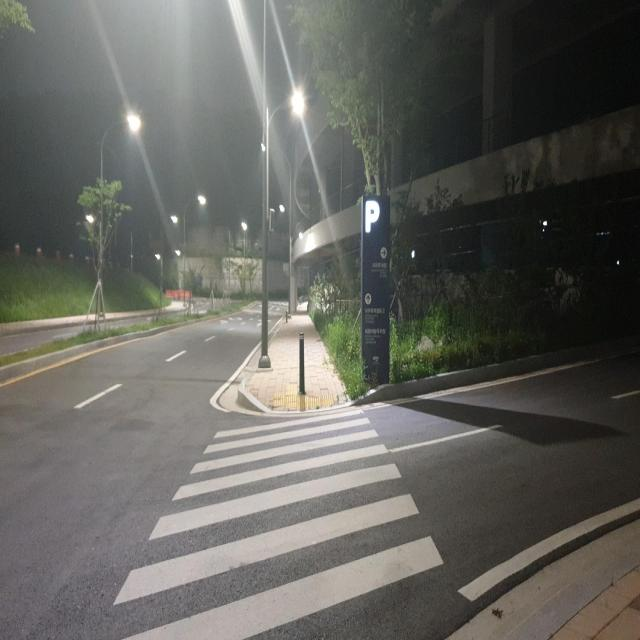횡단보도: (109, 404, 448, 640)
